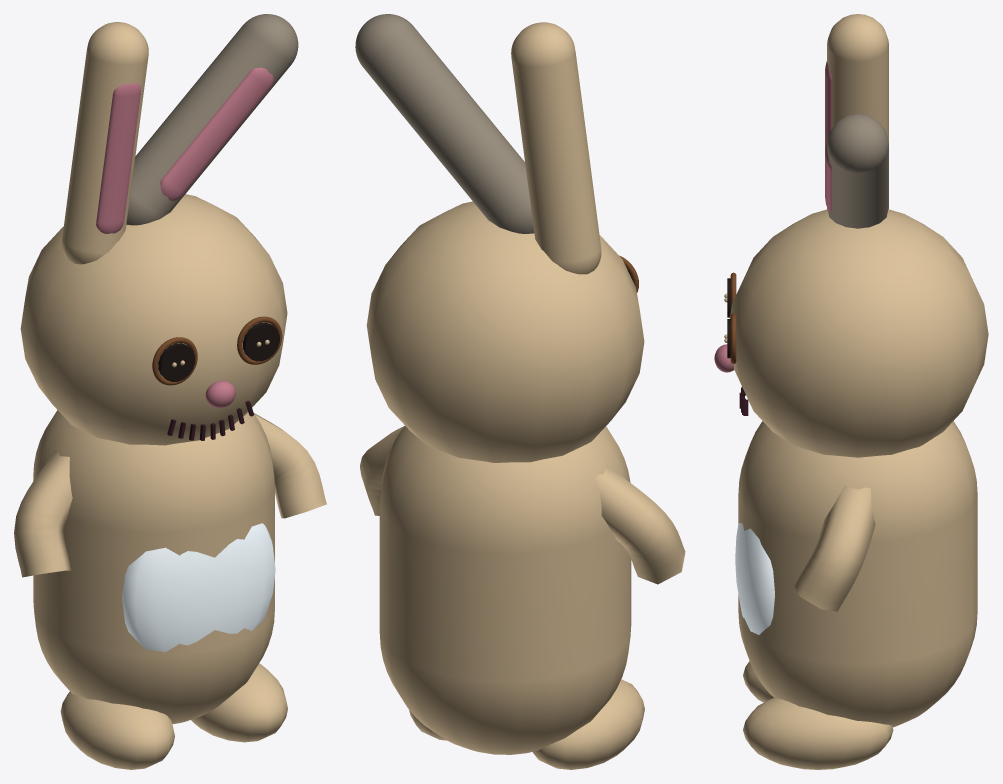
Rendered from mia-mascot_statue.glb.
3 renders of one model, left to right at view 1: azimuth 30°, elevation 25°; view 2: azimuth 150°, elevation 25°; view 3: azimuth 270°, elevation 25°, orthographic. The views are drawn at different scales.
Parts seen in each view (by area): view 1: Body_ivory, Body_porcelain, Body_mattress-seam, Body_cake-rose, Body_black, Body_rust, Body_dark; view 2: Body_ivory, Body_mattress-seam; view 3: Body_ivory, Body_mattress-seam, Body_porcelain, Body_cake-rose, Body_rust.
Boxes of the visible parts, bbox=[...] form: Body_ivory: bbox=[14, 22, 326, 769]; Body_porcelain: bbox=[122, 523, 275, 652]; Body_mattress-seam: bbox=[126, 14, 298, 225]; Body_cake-rose: bbox=[96, 67, 273, 407]; Body_black: bbox=[158, 322, 279, 381]; Body_rust: bbox=[152, 316, 282, 385]; Body_dark: bbox=[167, 400, 254, 440]; Body_ivory: bbox=[360, 22, 685, 769]; Body_mattress-seam: bbox=[355, 14, 534, 233]; Body_ivory: bbox=[724, 14, 988, 769]; Body_mattress-seam: bbox=[827, 113, 888, 228]; Body_porcelain: bbox=[735, 523, 774, 634]; Body_cake-rose: bbox=[714, 61, 831, 372]; Body_rust: bbox=[730, 272, 736, 363].
Size of the model in its own units: 1.55 by 3.5 by 1.24.
